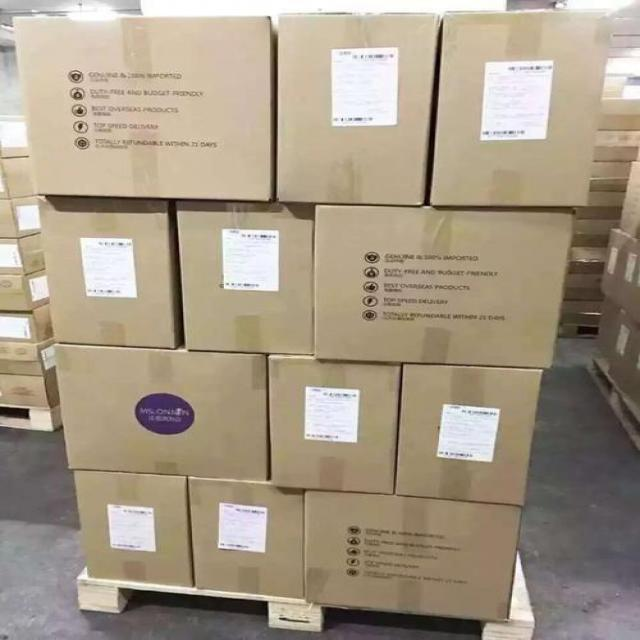box: (10, 14, 281, 207), (305, 192, 579, 371), (420, 9, 623, 218), (40, 333, 272, 481), (299, 479, 526, 624), (271, 6, 432, 209), (171, 194, 326, 358), (257, 338, 403, 499), (39, 192, 182, 353), (387, 359, 544, 505), (63, 459, 209, 594), (186, 476, 311, 599)
